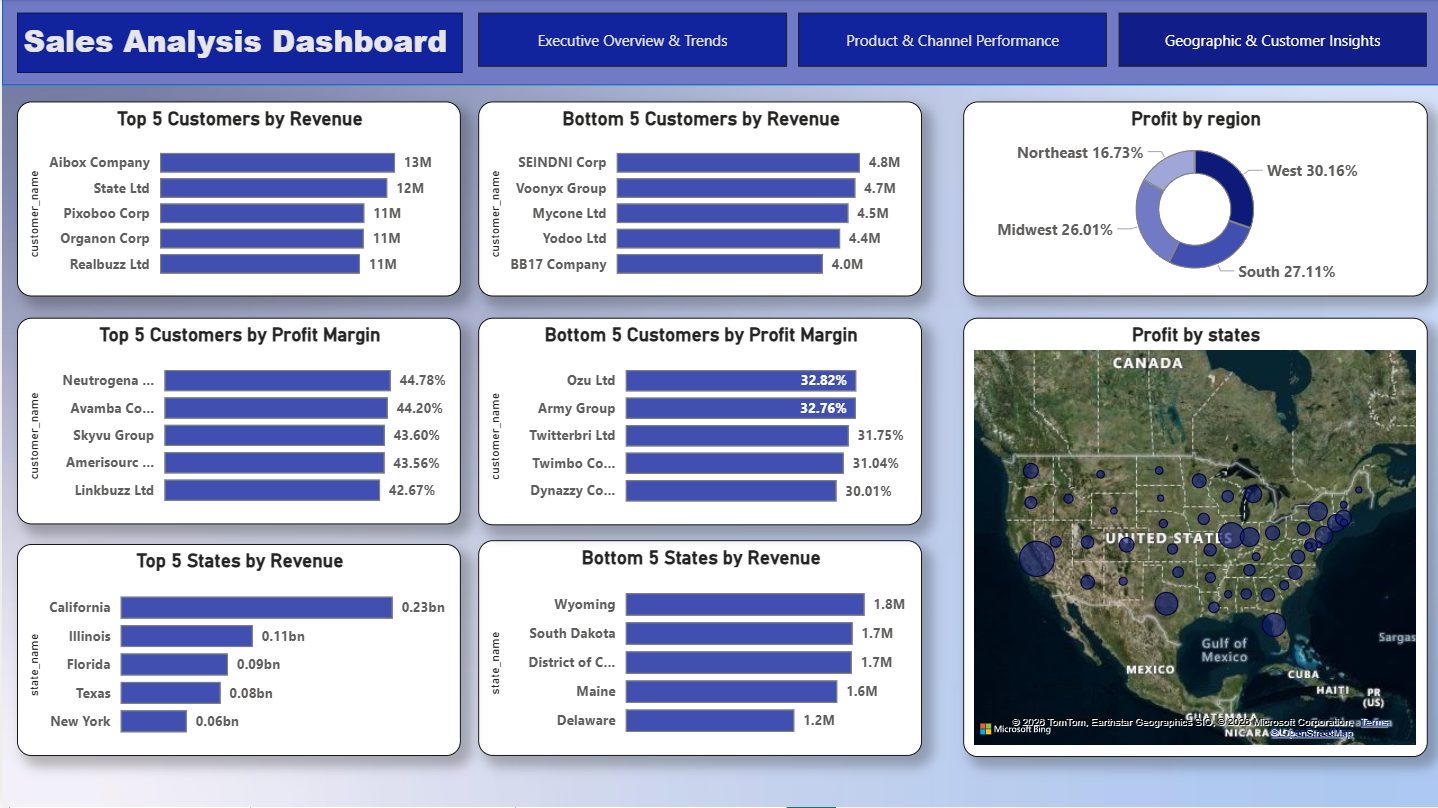

The page's visual inventory and layout, read from the dashboard file:
{"tool":"powerbi","page":{"name":"Geographic & Customer Insights","canvas":[1280,720],"ordinal":2},"visuals":[{"type":"shape","box":[0,0,1280.3,76.8],"z":0},{"type":"pageNavigator","box":[424,12.3,845.3,48],"z":1000},{"type":"barChart","title":"Bottom 5  States by Revenue","fields":{"Category":["Sales_data(EDA Exported).state_name"],"Y":["Sum(Sales_data(EDA Exported).revenue)"]},"box":[424.4,482.2,395.6,192.2],"z":2000},{"type":"barChart","title":"Top 5  States by Revenue","fields":{"Category":["Sales_data(EDA Exported).state_name"],"Y":["Sum(Sales_data(EDA Exported).revenue)"]},"box":[13.3,485.6,395.6,188.9],"z":3000},{"type":"barChart","title":"Bottom 5 Customers by Revenue","fields":{"Y":["Sum(Sales_data(EDA Exported).revenue)"],"Category":["Sales_data(EDA Exported).customer_name"]},"box":[424.4,91.1,395.6,173.3],"z":4000},{"type":"barChart","title":"Top 5 Customers by Revenue","fields":{"Y":["Sum(Sales_data(EDA Exported).revenue)"],"Category":["Sales_data(EDA Exported).customer_name"]},"box":[13.3,91.1,395.6,173.3],"z":5000},{"type":"barChart","title":"Bottom 5 Customers by Profit Margin","fields":{"Category":["Sales_data(EDA Exported).customer_name"],"Y":["Sales_data(EDA Exported).Profit Margin"]},"box":[424.4,283.3,395.6,184.4],"z":6000},{"type":"barChart","title":"Top 5 Customers by Profit Margin","fields":{"Category":["Sales_data(EDA Exported).customer_name"],"Y":["Sales_data(EDA Exported).Profit Margin"]},"box":[13.2,283.8,395.6,183.8],"z":7000},{"type":"map","title":"Profit by states","fields":{"Category":["Sales_data(EDA Exported).state"],"Size":["Sum(Sales_data(EDA Exported).profit)"]},"box":[855.9,283.8,413.2,391.2],"z":8000},{"type":"donutChart","title":"Profit by region","fields":{"Y":["Sum(Sales_data(EDA Exported).profit)"],"Category":["Sales_data(EDA Exported).us_region"]},"box":[855.9,91.2,413.2,173.5],"z":9000},{"type":"textbox","box":[13.7,12.3,396.6,53.5],"z":10000}]}

Visuals, with their boxes in screenshot pixels (x1, y1, x2, y2), scaled from the page's 1280x720 canvas onto the 1438x808 screenshot:
shape: (0,0,1437,86)
pageNavigator: (476,14,1426,68)
"Bottom 5  States by Revenue" barChart: (477,541,921,757)
"Top 5  States by Revenue" barChart: (15,545,459,757)
"Bottom 5 Customers by Revenue" barChart: (477,102,921,297)
"Top 5 Customers by Revenue" barChart: (15,102,459,297)
"Bottom 5 Customers by Profit Margin" barChart: (477,318,921,525)
"Top 5 Customers by Profit Margin" barChart: (15,318,459,525)
"Profit by states" map: (962,318,1426,758)
"Profit by region" donutChart: (962,102,1426,297)
textbox: (15,14,461,74)
